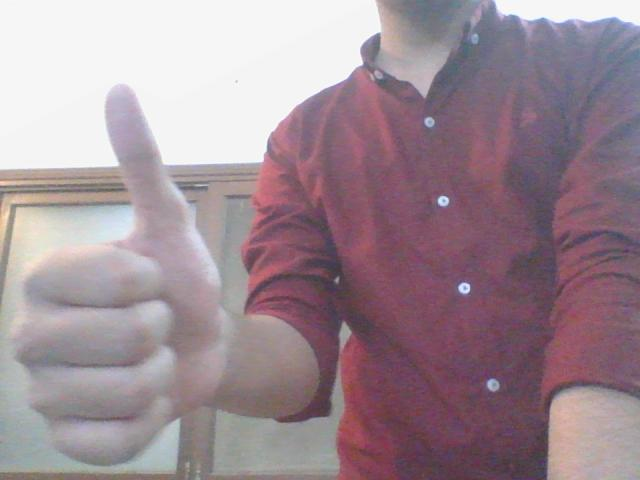thumbs-up: (5, 73, 210, 467)
